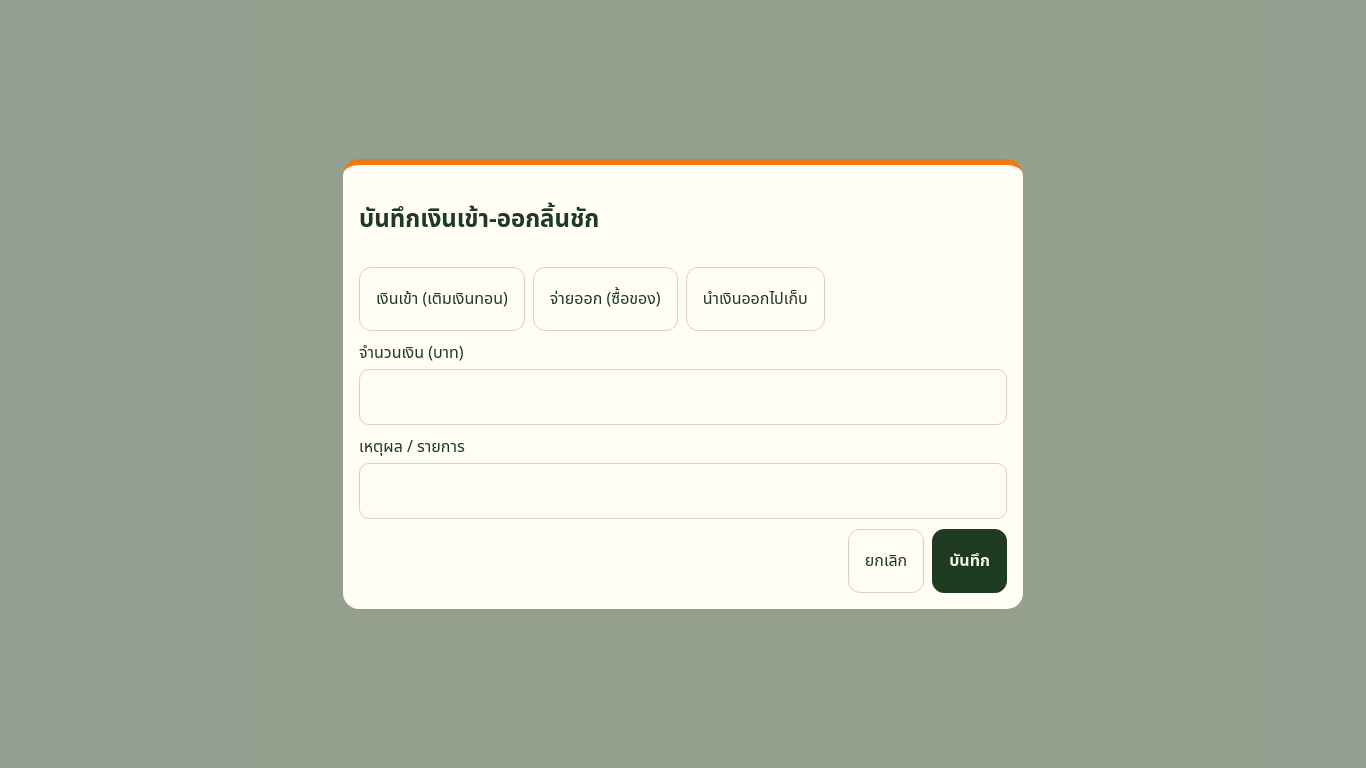
CashMoveDialog — review C-1/I-1: never compare against a missing or stale expected cash › a tap on cash-save while the shift report is still loading saves nothing and shows no warning (no bypass)
picked before the shift-report query has any data at all — cash-save must not let this through
Click the button with test id "cash-kind-PAID_OUT" at point(605, 299), box [533, 267, 678, 331]
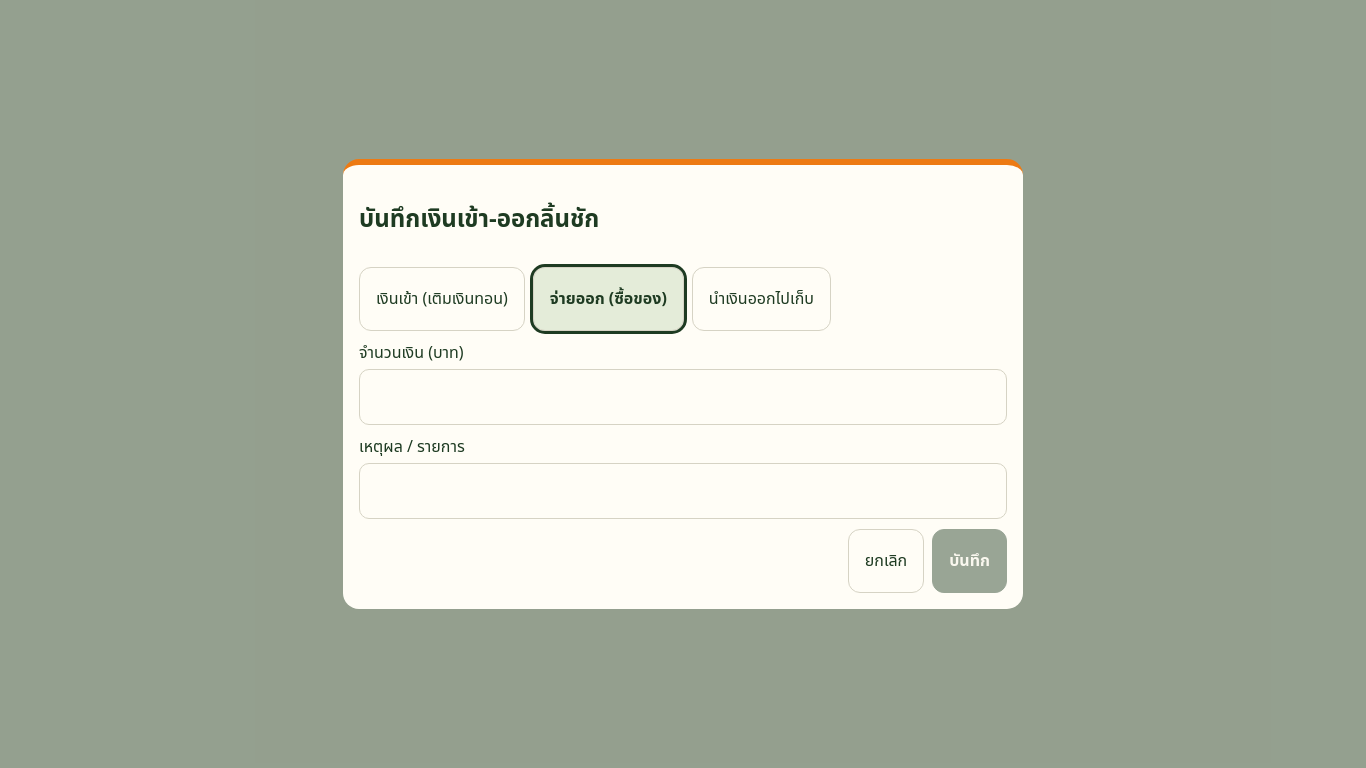
Type "600" into the field with test id "cash-amount" at point(683, 397), box [359, 369, 1007, 425]
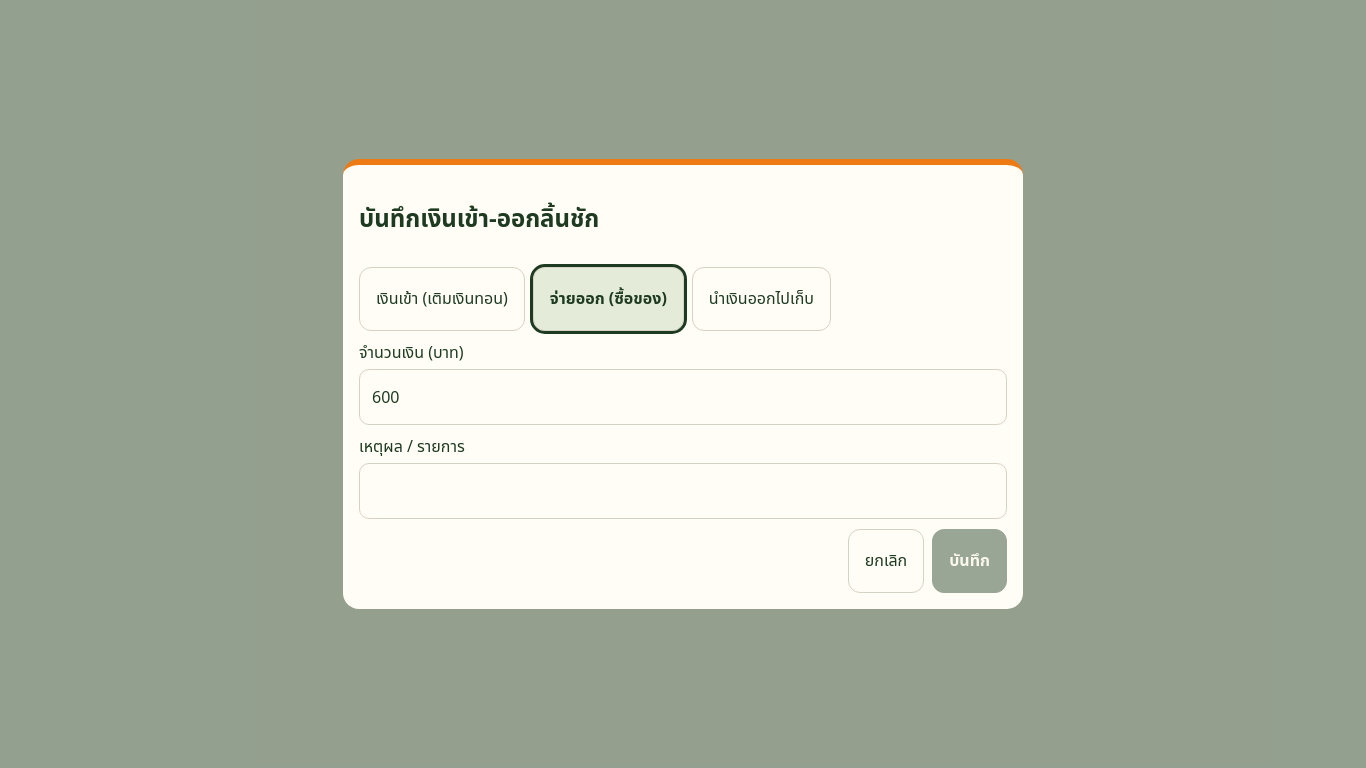
Type "ซื้อของ" into the field with test id "cash-reason" at point(683, 491), box [359, 463, 1007, 519]
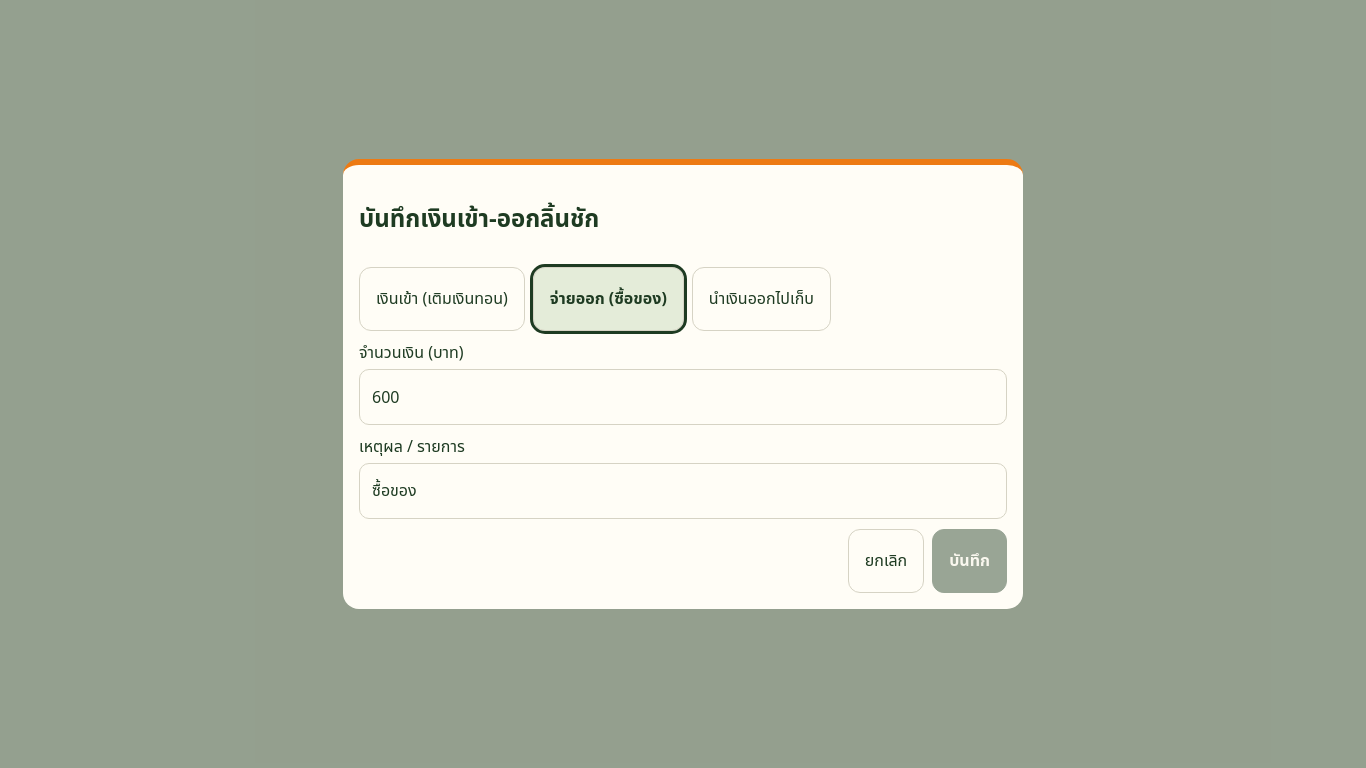
Expected: the button with test id "cash-save" is disabled
Click the button with test id "cash-save" at point(970, 561), box [932, 529, 1007, 593]
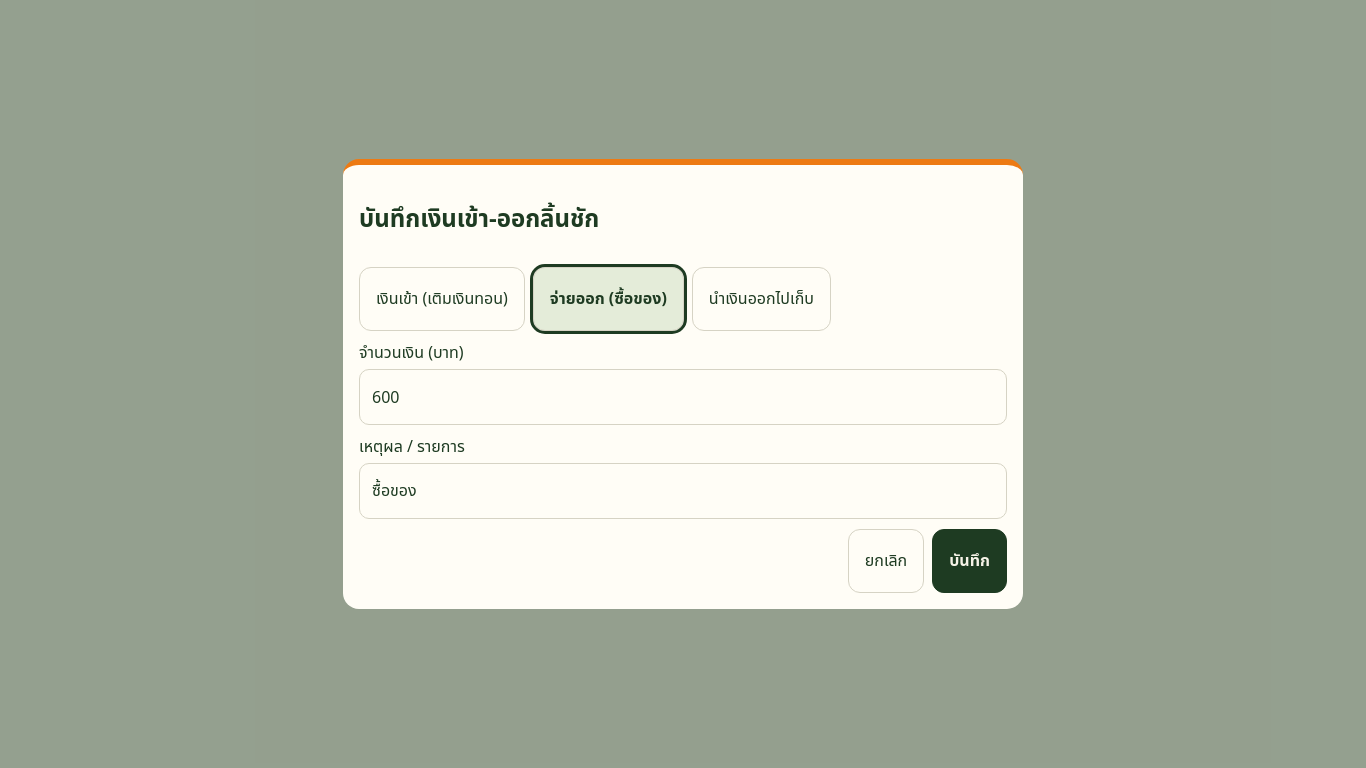
Expected: the button with test id "cash-save" is enabled, [932, 529, 1007, 593]
